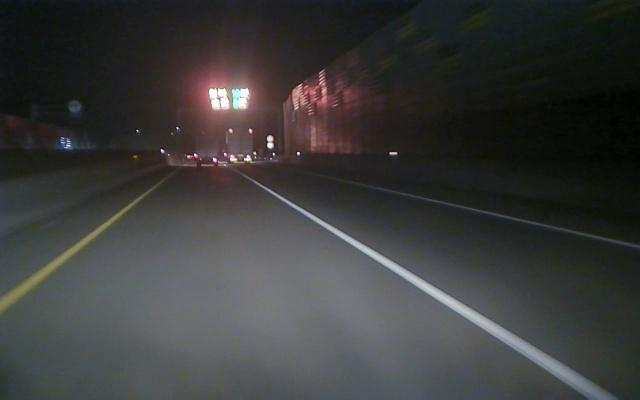lane: (249, 178, 621, 399), (346, 179, 640, 250), (1, 192, 149, 313)
